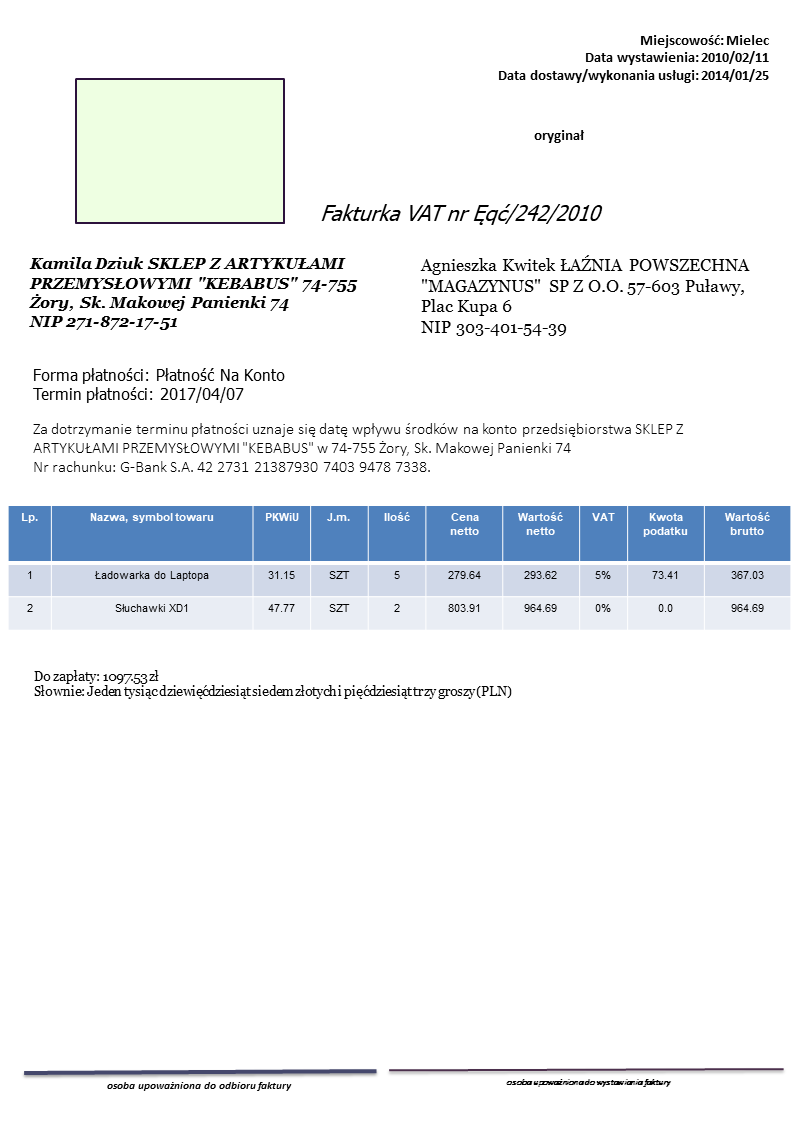Table: (7, 504, 792, 629)
TextBox: (29, 419, 689, 477), (418, 252, 754, 339), (26, 254, 359, 333), (29, 666, 512, 704), (494, 28, 771, 86), (30, 365, 286, 406), (317, 201, 605, 227), (104, 1077, 294, 1094), (503, 1076, 674, 1089), (531, 126, 588, 148)
